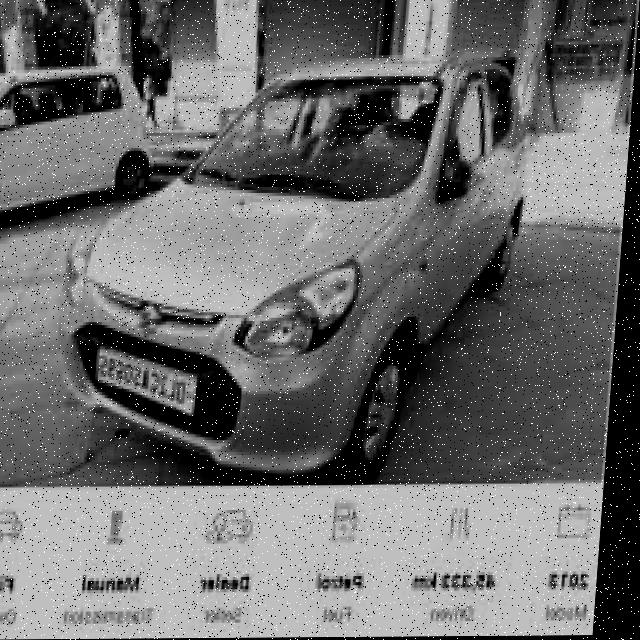car: (46, 64, 551, 460)
